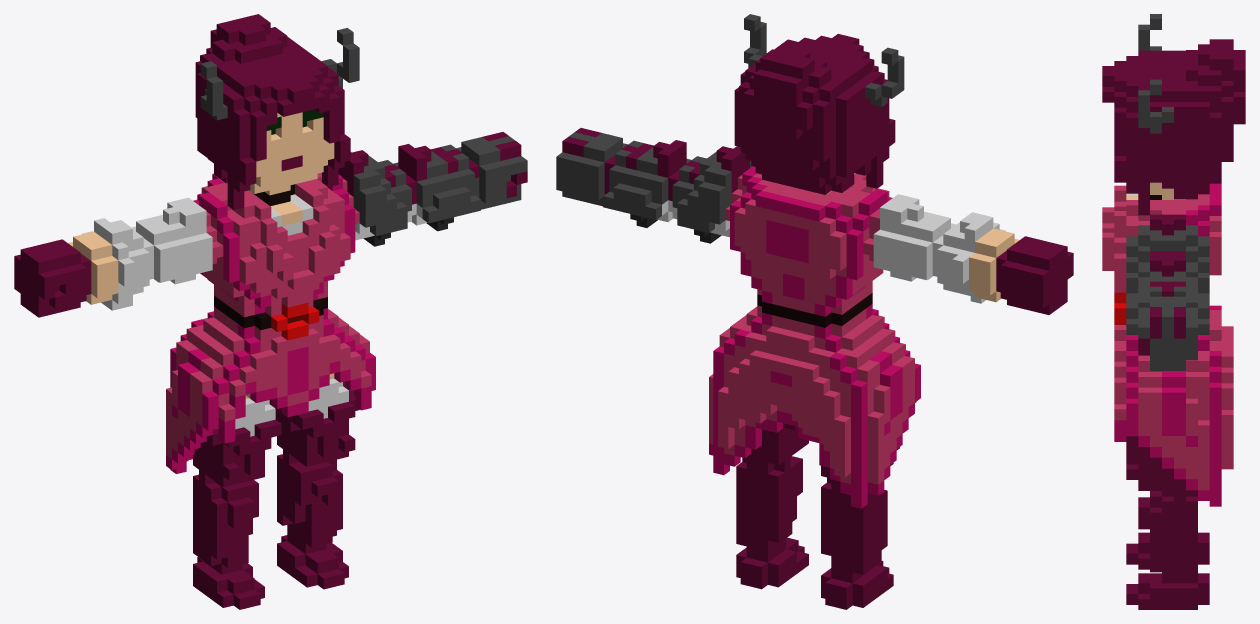
File: human_demon_girl.glb
3 views of the same model, side by side, from view 1: azimuth 30°, elevation 25°; view 2: azimuth 150°, elevation 25°; view 3: azimuth 270°, elevation 25° (orthographic). The views are drawn at different scales.
Parts seen in each view (by area): view 1: human_demon_girl; view 2: human_demon_girl; view 3: human_demon_girl.
Part boxes in pixels (x1,y1,x2,y2): human_demon_girl: [14, 14, 527, 609]; human_demon_girl: [556, 14, 1073, 609]; human_demon_girl: [1102, 14, 1245, 609].
Bounding box in the file's own units: 4.6 × 4.9 × 1.2.
1 material, 1 textured.
